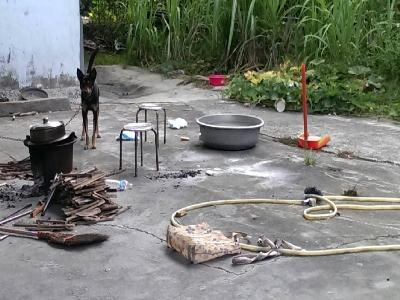bottle: (104, 178, 133, 192)
bowl: (196, 113, 265, 153), (28, 120, 68, 141), (209, 74, 227, 86)
bucket: (20, 138, 79, 194)
plate: (20, 86, 48, 101)
